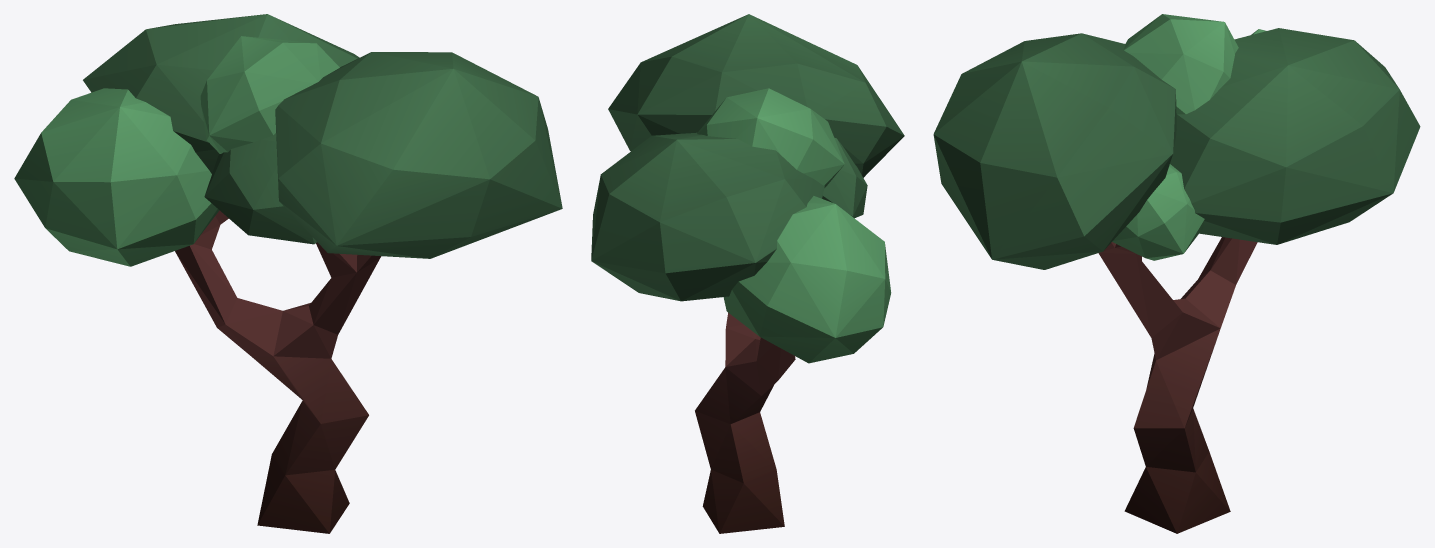
File: DarkTree2.fbx
3 views of the same model, side by side, from view 1: azimuth 30°, elevation 25°; view 2: azimuth 150°, elevation 25°; view 3: azimuth 270°, elevation 25° (orthographic). The views are drawn at different scales.
Parts seen in each view (by area): view 1: DarkTree2; view 2: DarkTree2; view 3: DarkTree2.
Part boxes in pixels (<box>): DarkTree2: <box>14,14,562,533</box>; DarkTree2: <box>591,14,904,533</box>; DarkTree2: <box>933,14,1420,533</box>.
Bounding box in the file's own units: 404 × 463 × 421.
